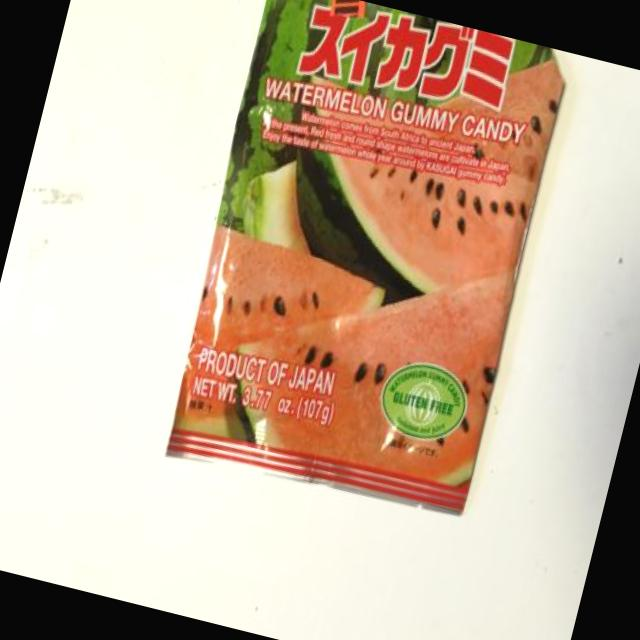Trash: (156, 0, 578, 518)
